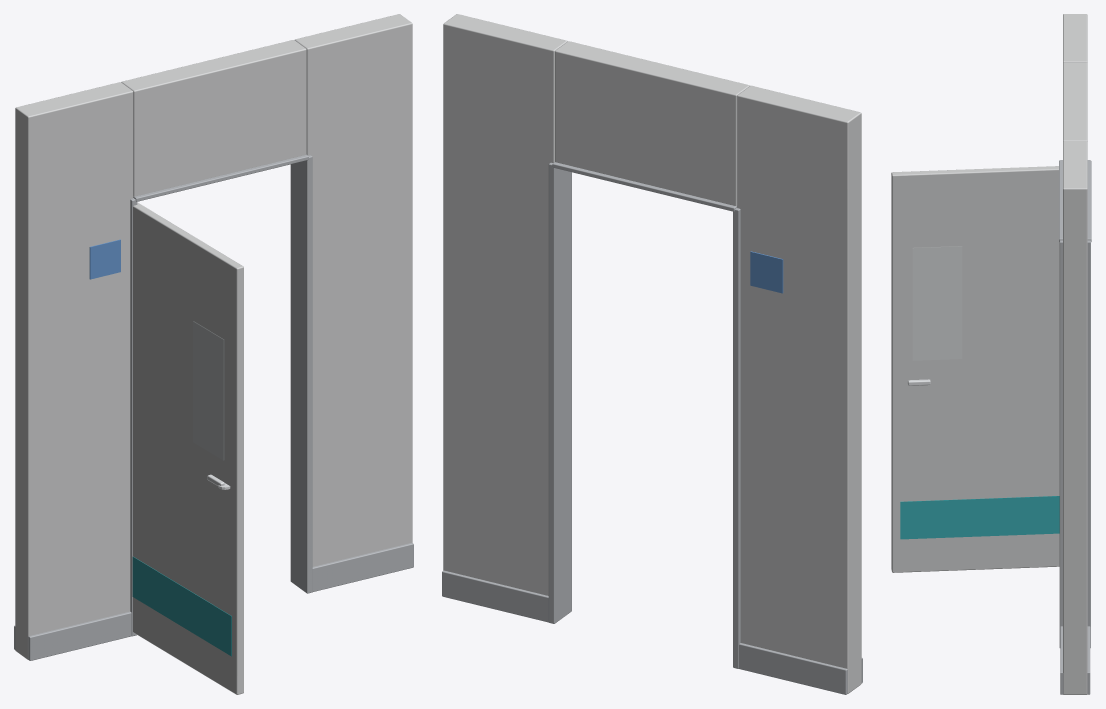
Rendered from surgery-door-module-open.glb.
The picture shows the model from 3 angles, left to right: view 1: azimuth 30°, elevation 25°; view 2: azimuth 150°, elevation 25°; view 3: azimuth 270°, elevation 25°; orthographic projection. The views are drawn at different scales.
Visible parts, largest first — view 1: surgery-door-module-open, door-a (×3); view 2: surgery-door-module-open; view 3: door-a (×3), surgery-door-module-open.
Boxes of the visible parts, <box> form: surgery-door-module-open: <box>14,14,413,660</box>; door-a (×3): <box>132,202,243,694</box>; surgery-door-module-open: <box>442,14,862,694</box>; door-a (×3): <box>891,166,1059,572</box>; surgery-door-module-open: <box>1059,14,1091,694</box>.
Bounding box in the file's own units: 2 × 2.7 × 0.9668.
